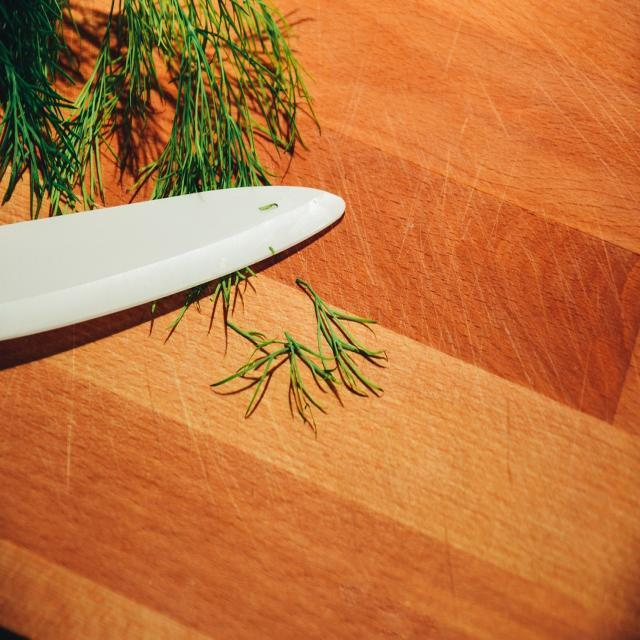Knife: (0, 186, 345, 339)
